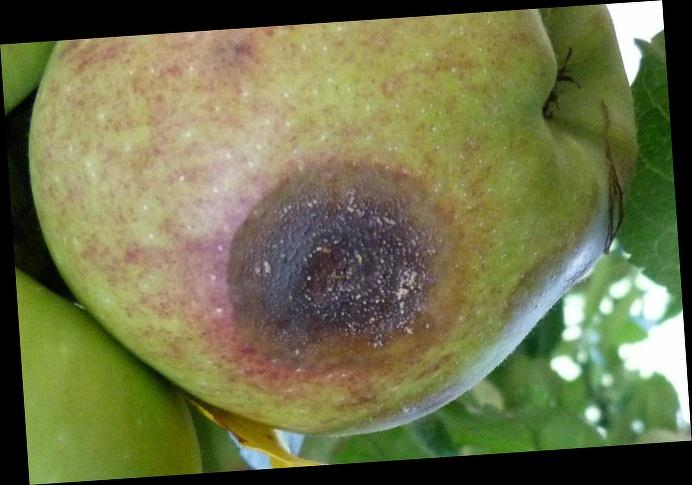rotten apple: (29, 22, 647, 439)
